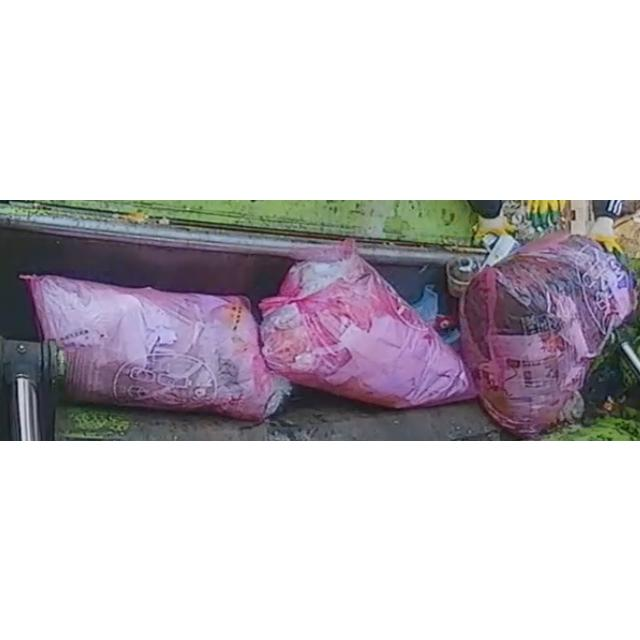other_trashbag: (24, 274, 286, 420), (259, 240, 475, 407), (460, 233, 636, 436)
